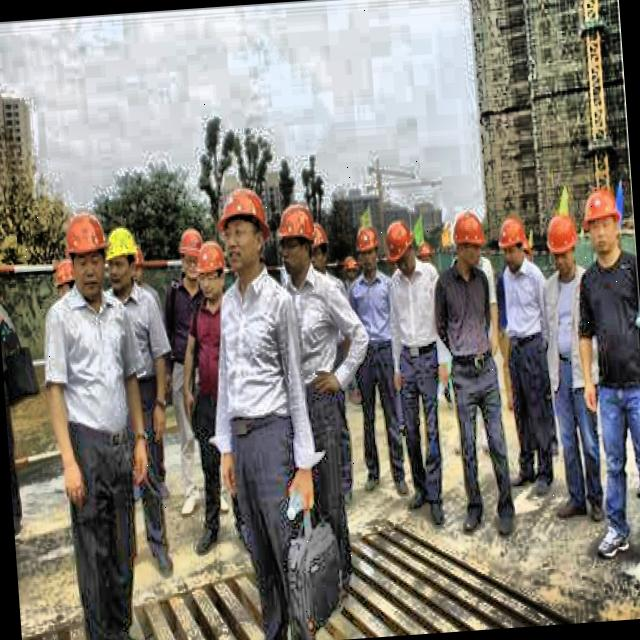helmet: (217, 178, 270, 274), (64, 209, 110, 297), (579, 183, 624, 265), (276, 202, 320, 276), (102, 222, 140, 294), (448, 210, 488, 276), (544, 211, 584, 275), (197, 237, 235, 301), (382, 212, 418, 274), (306, 215, 336, 282), (496, 213, 530, 269), (172, 224, 202, 287), (52, 258, 84, 316), (353, 221, 381, 279)
